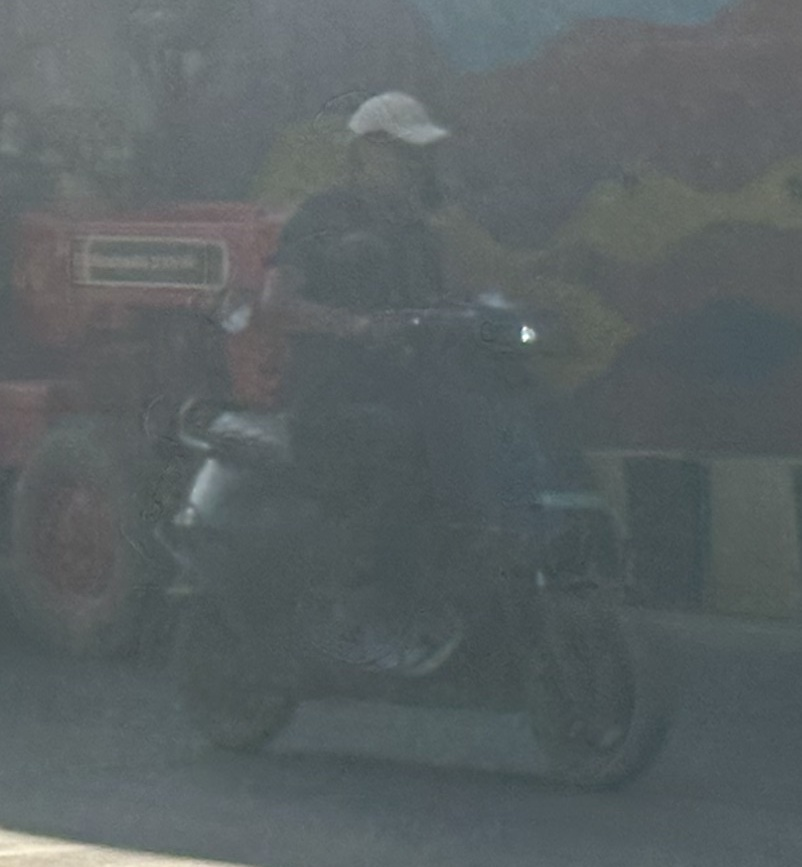BikeWithRider: (125, 74, 685, 803)
NoHelmet: (320, 82, 468, 219)
